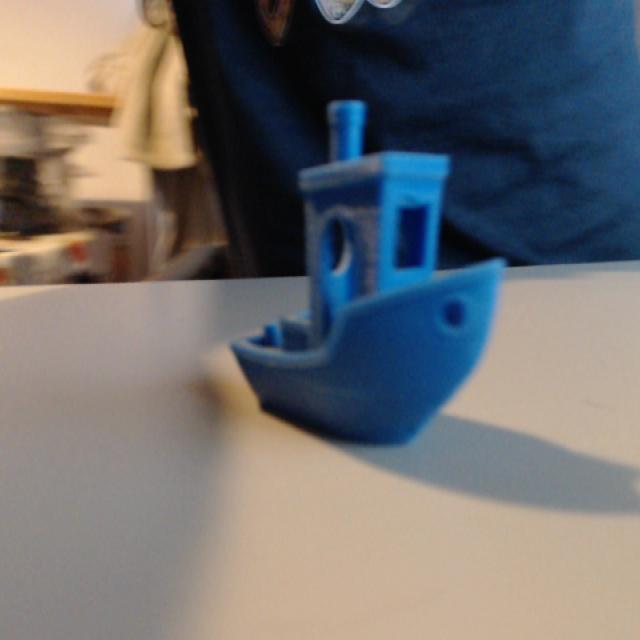benchy: (227, 95, 507, 449)
